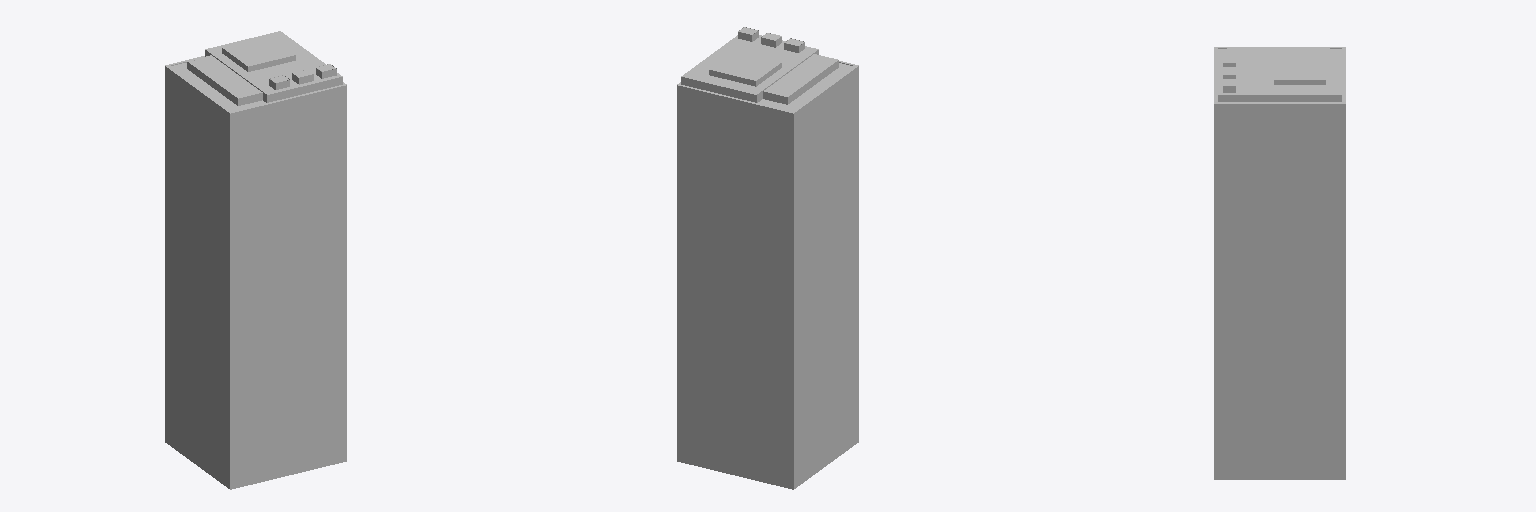
Rendered from building6.obj.
3 views of the same model, side by side, from view 1: azimuth 30°, elevation 25°; view 2: azimuth 150°, elevation 25°; view 3: azimuth 270°, elevation 25° (orthographic).
Parts seen in each view (by area): view 1: grp_building_geo18 building_grp; view 2: grp_building_geo18 building_grp; view 3: grp_building_geo18 building_grp.
Part boxes in pixels (x1,y1,x2,y2): grp_building_geo18 building_grp: (165, 31, 346, 489); grp_building_geo18 building_grp: (677, 27, 858, 489); grp_building_geo18 building_grp: (1214, 47, 1345, 479).
Size of the model in its own units: 4.87 by 15.54 by 4.73.